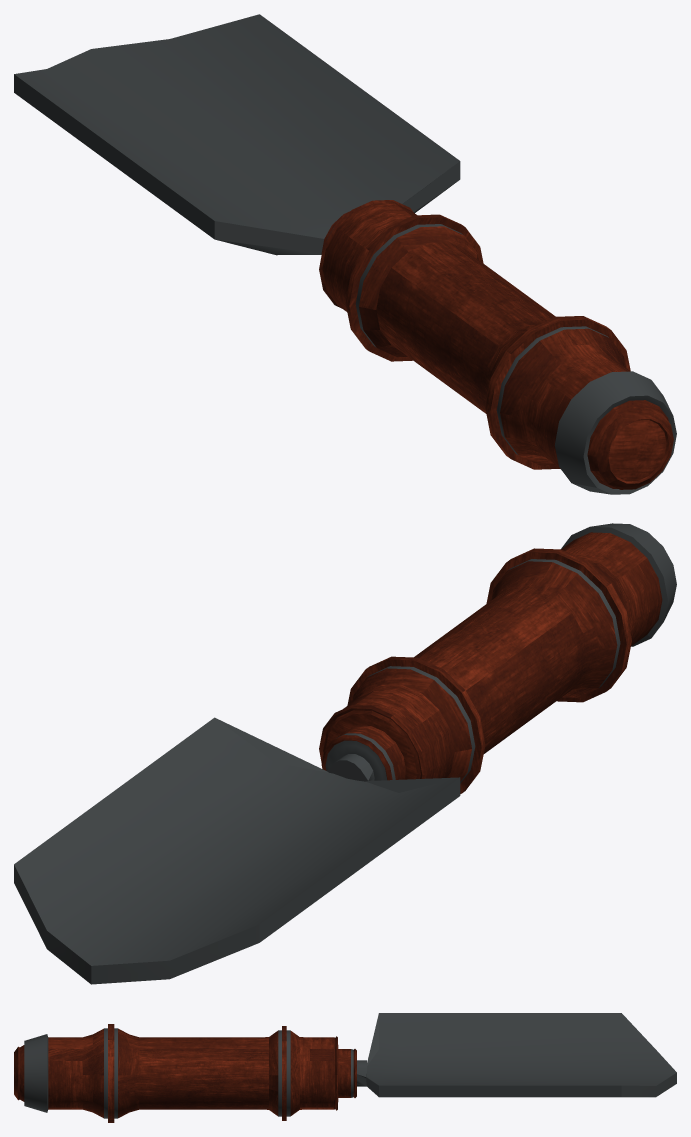
File: Лопатка.fbx
3 views of the same model, one above another, from view 1: azimuth 30°, elevation 25°; view 2: azimuth 150°, elevation 25°; view 3: azimuth 270°, elevation 25° (orthographic). The views are drawn at different scales.
Parts seen in each view (by area): view 1: Object_4; view 2: Object_4; view 3: Object_4.
Boxes of the visible parts, x1,y1,x2,y2 form: Object_4: [14, 14, 676, 494]; Object_4: [14, 523, 676, 984]; Object_4: [14, 1013, 676, 1122].
Size of the model in its own units: 0.3354 by 0.1934 by 1.3.
3 materials, 2 textured.
